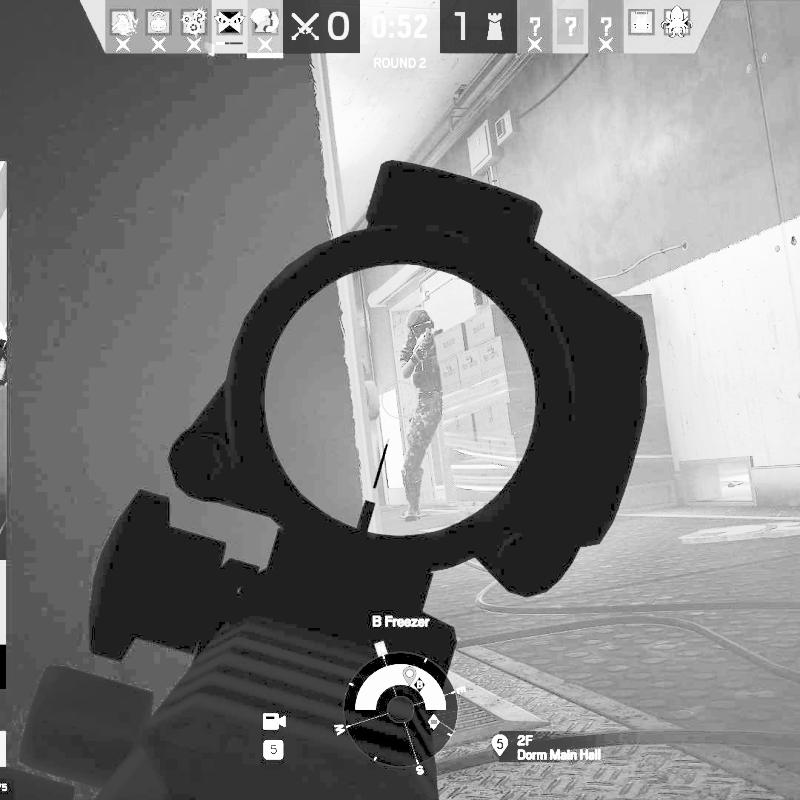Character: (397, 307, 446, 522)
Head: (404, 307, 436, 342)
